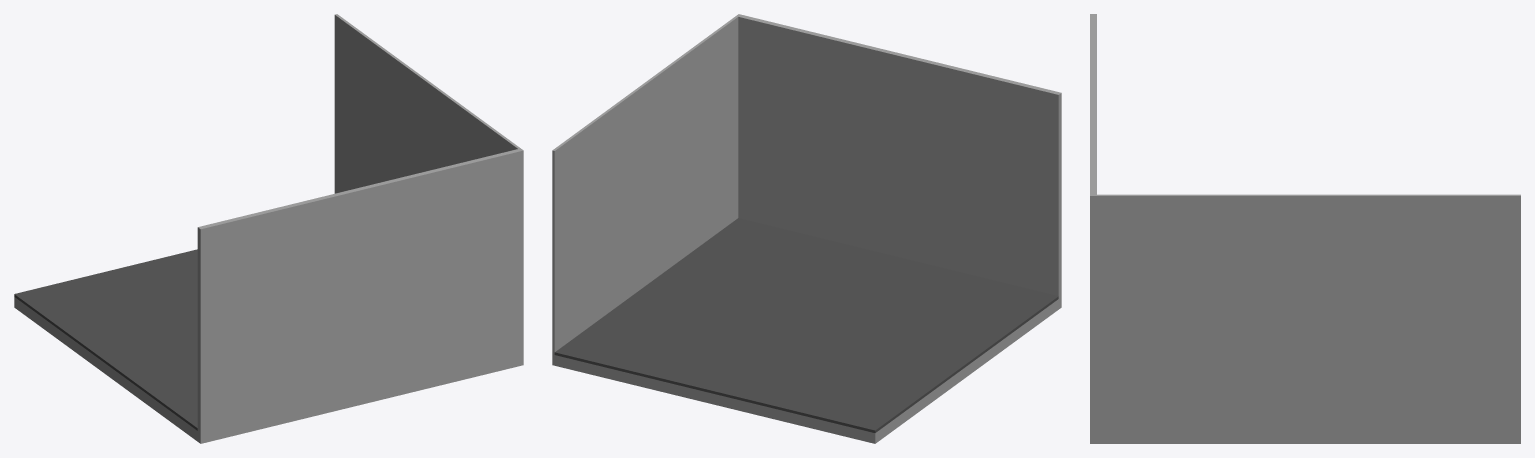
Rendered from 4x2 first-5.obj.
3 views of the same model, side by side, from view 1: azimuth 30°, elevation 25°; view 2: azimuth 150°, elevation 25°; view 3: azimuth 270°, elevation 25° (orthographic). The views are drawn at different scales.
Parts seen in each view (by area): view 1: 4x2 first-5; view 2: 4x2 first-5; view 3: 4x2 first-5.
Part boxes in pixels (x1,y1,x2,y2): 4x2 first-5: (14,14,523,443); 4x2 first-5: (552,14,1061,443); 4x2 first-5: (1090,14,1520,443).
Bounding box in the file's own units: 126 × 80 × 126.
1 material, 1 textured.
